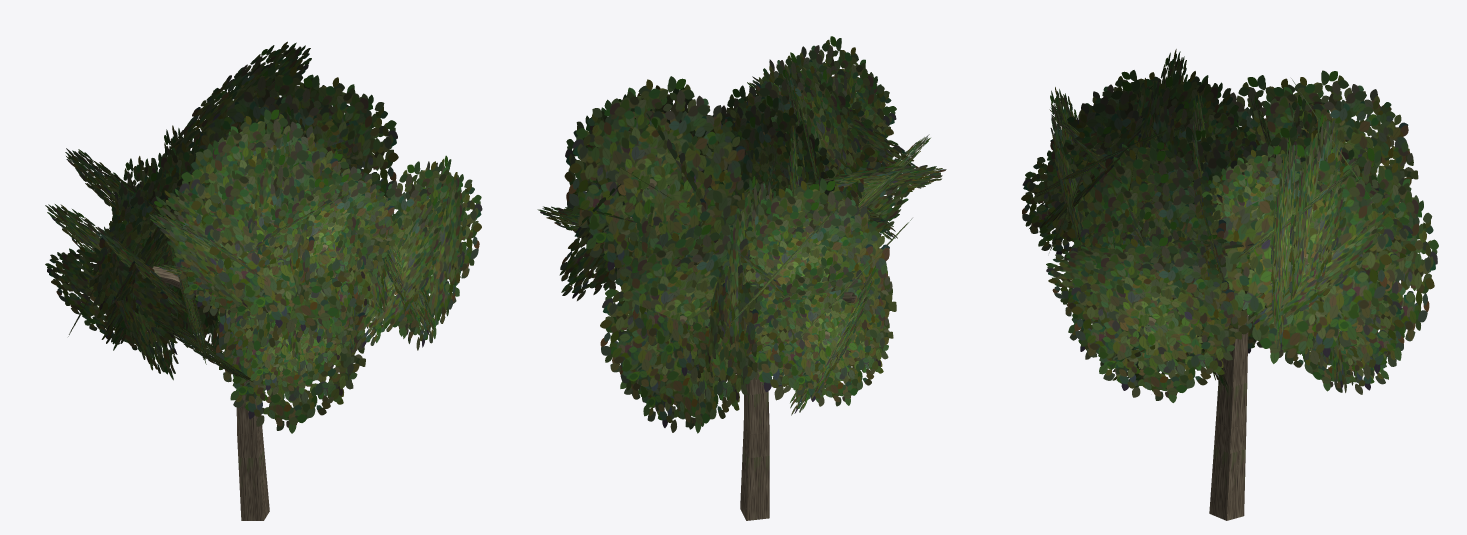
The model's file is Tree_Oak_2_LOD2.gltf.
3 views of the same model, side by side, from view 1: azimuth 30°, elevation 25°; view 2: azimuth 150°, elevation 25°; view 3: azimuth 270°, elevation 25° (orthographic). The views are drawn at different scales.
Parts seen in each view (by area): view 1: Tree_Oak_2_LOD2; view 2: Tree_Oak_2_LOD2; view 3: Tree_Oak_2_LOD2.
Part boxes in pixels (bbox=[...]): Tree_Oak_2_LOD2: bbox=[45, 41, 482, 520]; Tree_Oak_2_LOD2: bbox=[537, 36, 946, 520]; Tree_Oak_2_LOD2: bbox=[1021, 49, 1438, 520].
Bounding box in the file's own units: 18.08 × 20.64 × 18.34.
2 materials, 2 textured.
